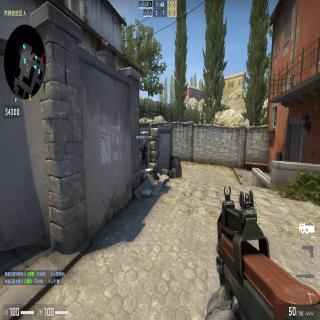CT-Body: (141, 144, 148, 168)
CT-Head: (143, 144, 145, 148)
